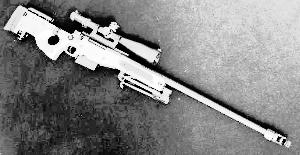sniper: (1, 3, 295, 151)
